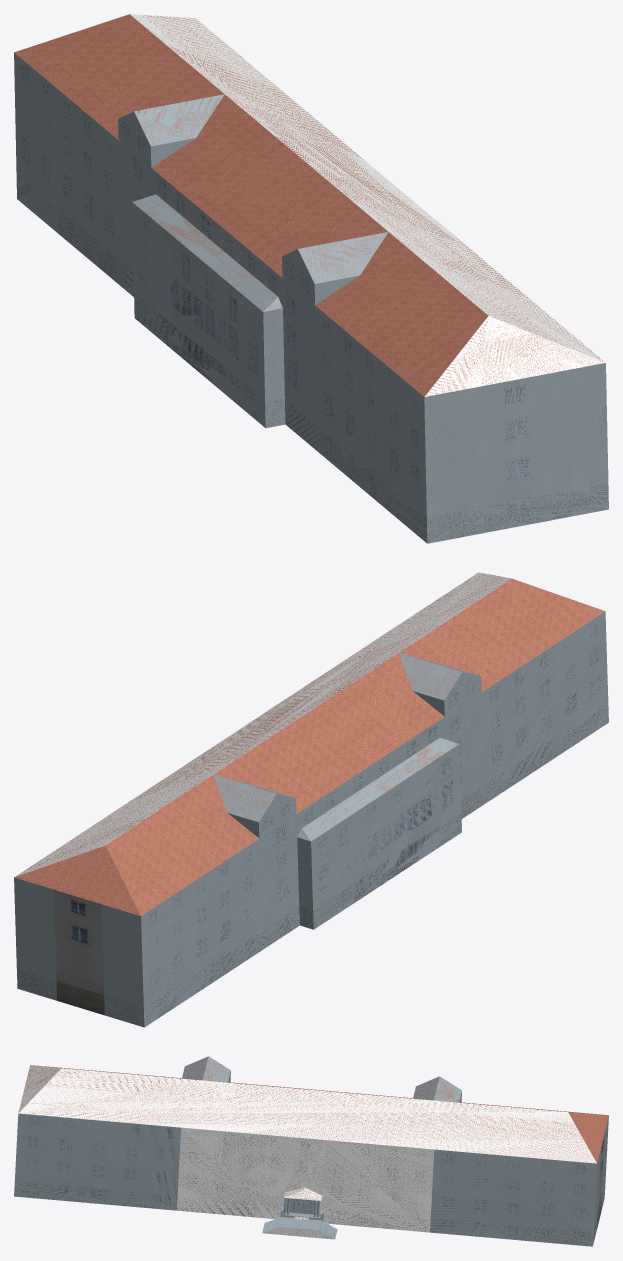
3 views of the same model, one above another, from view 1: azimuth 30°, elevation 25°; view 2: azimuth 150°, elevation 25°; view 3: azimuth 270°, elevation 25° (orthographic). The views are drawn at different scales.
Parts seen in each view (by area): view 1: rafal_ds4_1; view 2: rafal_ds4_1; view 3: rafal_ds4_1.
Boxes of the visible parts, left/top/right/bottom form: rafal_ds4_1: left=14, top=14, right=608, bottom=543; rafal_ds4_1: left=14, top=572, right=608, bottom=1027; rafal_ds4_1: left=14, top=1056, right=608, bottom=1246.
Bounding box in the file's own units: 945 × 744 × 3067.
